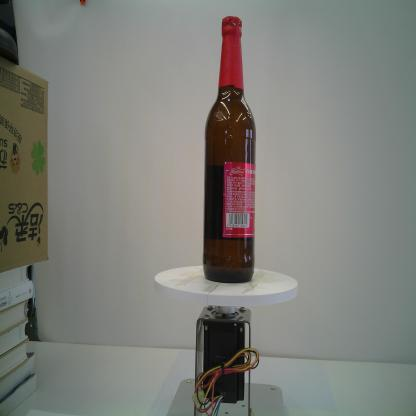Alcohol: (200, 12, 258, 286)
